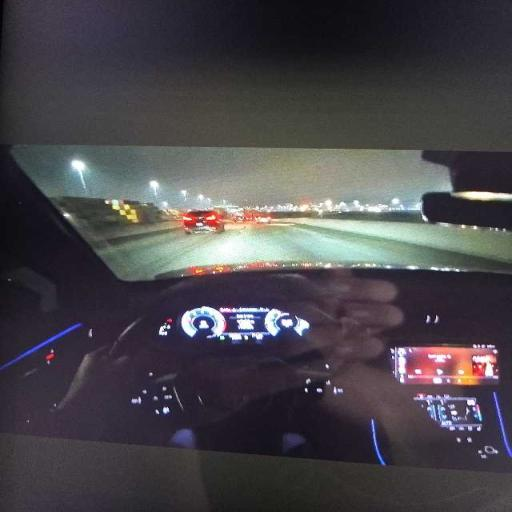car: (0, 146, 511, 475), (183, 210, 224, 234)
lane: (100, 223, 511, 280)
person: (169, 271, 456, 466)
